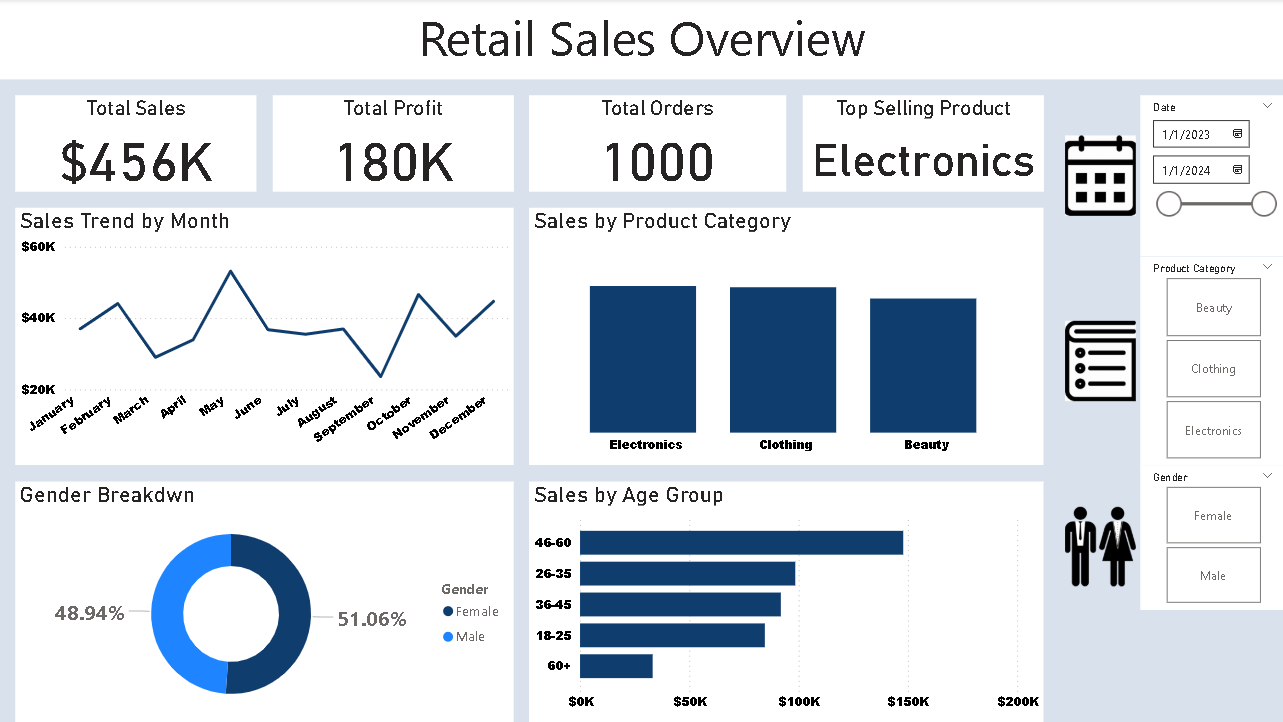

This screenshot's page, from the dashboard's own definition file:
{"tool":"powerbi","page":{"name":"Summary","canvas":[1280,720],"ordinal":0},"visuals":[{"type":"card","title":"Total Sales ","fields":{"Values":["Sum(retail_sales retail_sales_dataset2.Total Amount)"]},"box":[16,96,240,96],"z":0},{"type":"card","title":"Total Profit","fields":{"Values":["retail_sales retail_sales_dataset2.Profits"]},"box":[272,96,240,96],"z":1},{"type":"card","title":"Total Orders","fields":{"Values":["Count(retail_sales retail_sales_dataset2.Customer ID)"]},"box":[528,96,256,96],"z":2},{"type":"card","title":"Top Selling Product","fields":{"Values":["retail_sales retail_sales_dataset2.Top Selling Product"]},"box":[800,96,240,96],"z":3},{"type":"lineChart","title":"Sales Trend by Month","fields":{"Category":["retail_sales retail_sales_dataset2.Date.Variation.Date Hierarchy.Month"],"Y":["Sum(retail_sales retail_sales_dataset2.Total Amount)"]},"box":[16,208,496,256],"z":4},{"type":"columnChart","title":"Sales by Product Category","fields":{"Category":["retail_sales retail_sales_dataset2.Product Category"],"Y":["Sum(retail_sales retail_sales_dataset2.Total Amount)"]},"box":[528,208,512,256],"z":5},{"type":"donutChart","title":"Gender Breakdwn","fields":{"Category":["retail_sales retail_sales_dataset2.Gender"],"Y":["Sum(retail_sales retail_sales_dataset2.Total Amount)"]},"box":[16,480,496,240],"z":6},{"type":"clusteredBarChart","title":"Sales by Age Group","fields":{"Category":["retail_sales retail_sales_dataset2.Age Group"],"Y":["Sum(retail_sales retail_sales_dataset2.Total Amount)"]},"box":[528,480,512,240],"z":7},{"type":"textbox","box":[0,0,1280,80],"z":8},{"type":"slicer","fields":{"Values":["retail_sales retail_sales_dataset2.Date"]},"box":[1136,96,144,160],"z":9},{"type":"slicer","fields":{"Values":["retail_sales retail_sales_dataset2.Product Category"]},"box":[1136,256,144,208],"z":10},{"type":"slicer","fields":{"Values":["retail_sales retail_sales_dataset2.Gender"]},"box":[1136,464,144,144],"z":11},{"type":"image","box":[1056,400,80,288],"z":12},{"type":"image","box":[1056,256,80,208],"z":13},{"type":"image","box":[1056,96,80,160],"z":14}]}

Visuals, with their boxes in screenshot pixels (x1, y1, x2, y2), scaled from the page's 1280x720 canvas onto the 1283x722 screenshot:
"Total Sales " card: [left=16, top=96, right=257, bottom=193]
"Total Profit" card: [left=273, top=96, right=513, bottom=193]
"Total Orders" card: [left=529, top=96, right=786, bottom=193]
"Top Selling Product" card: [left=802, top=96, right=1042, bottom=193]
"Sales Trend by Month" lineChart: [left=16, top=209, right=513, bottom=465]
"Sales by Product Category" columnChart: [left=529, top=209, right=1042, bottom=465]
"Gender Breakdwn" donutChart: [left=16, top=481, right=513, bottom=721]
"Sales by Age Group" clusteredBarChart: [left=529, top=481, right=1042, bottom=721]
textbox: [left=0, top=0, right=1282, bottom=80]
slicer - retail_sales retail_sales_dataset2.Date: [left=1139, top=96, right=1282, bottom=257]
slicer - retail_sales retail_sales_dataset2.Product Category: [left=1139, top=257, right=1282, bottom=465]
slicer - retail_sales retail_sales_dataset2.Gender: [left=1139, top=465, right=1282, bottom=610]
image: [left=1058, top=401, right=1139, bottom=690]
image: [left=1058, top=257, right=1139, bottom=465]
image: [left=1058, top=96, right=1139, bottom=257]
